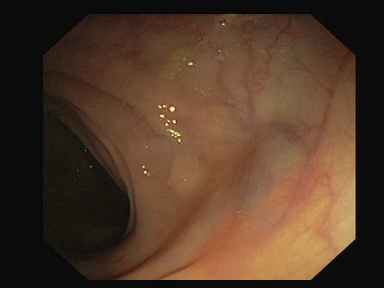polyp: (165, 153, 206, 198)
